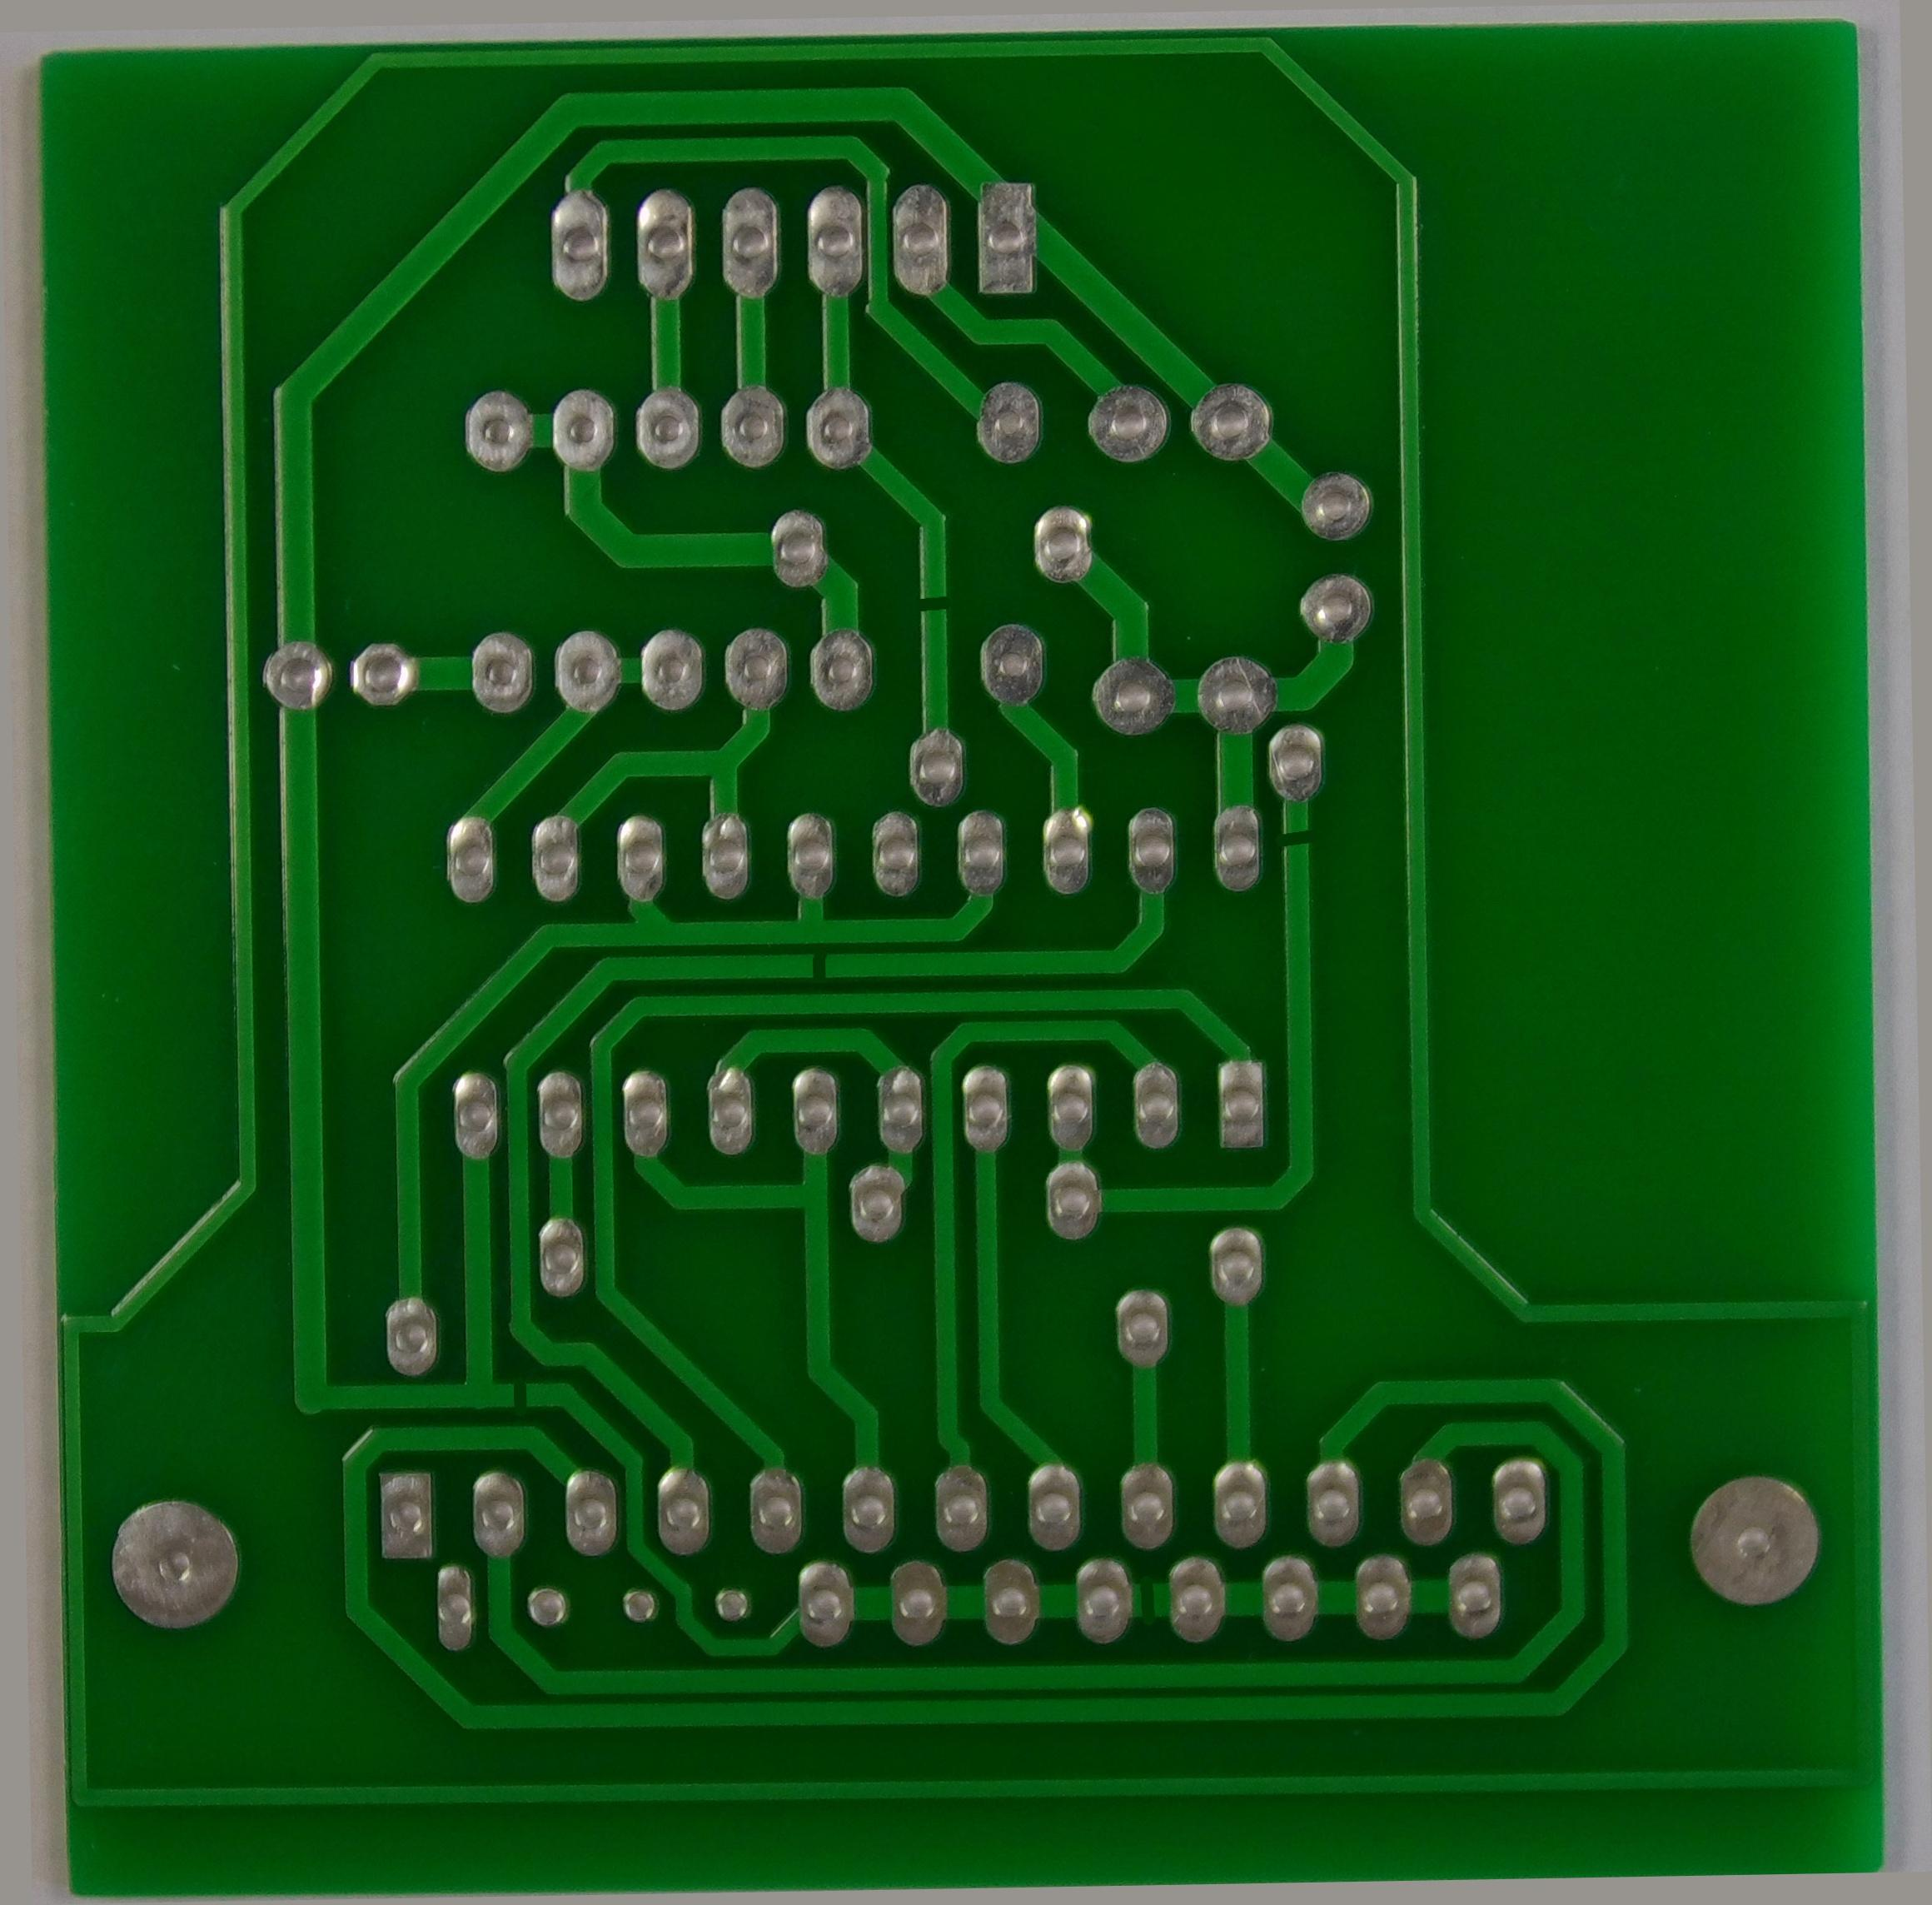open_circuit: (1112, 1581, 1163, 1649), (1269, 822, 1329, 864), (908, 570, 957, 619), (786, 939, 833, 984), (481, 1373, 523, 1420)
